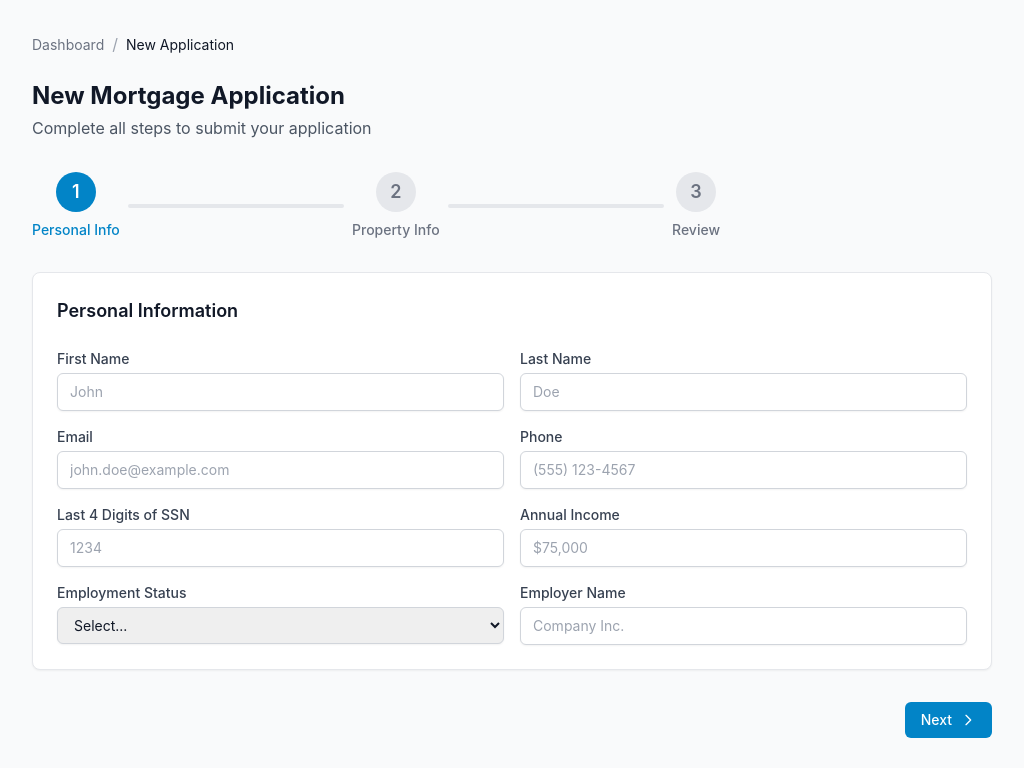
Test: NewApplicationPage › should only allow 4 digits for SSN
In the field labelled "Last 4 Digits of SSN": (280, 548) left=57, top=529, right=504, bottom=567, type "12345abc"
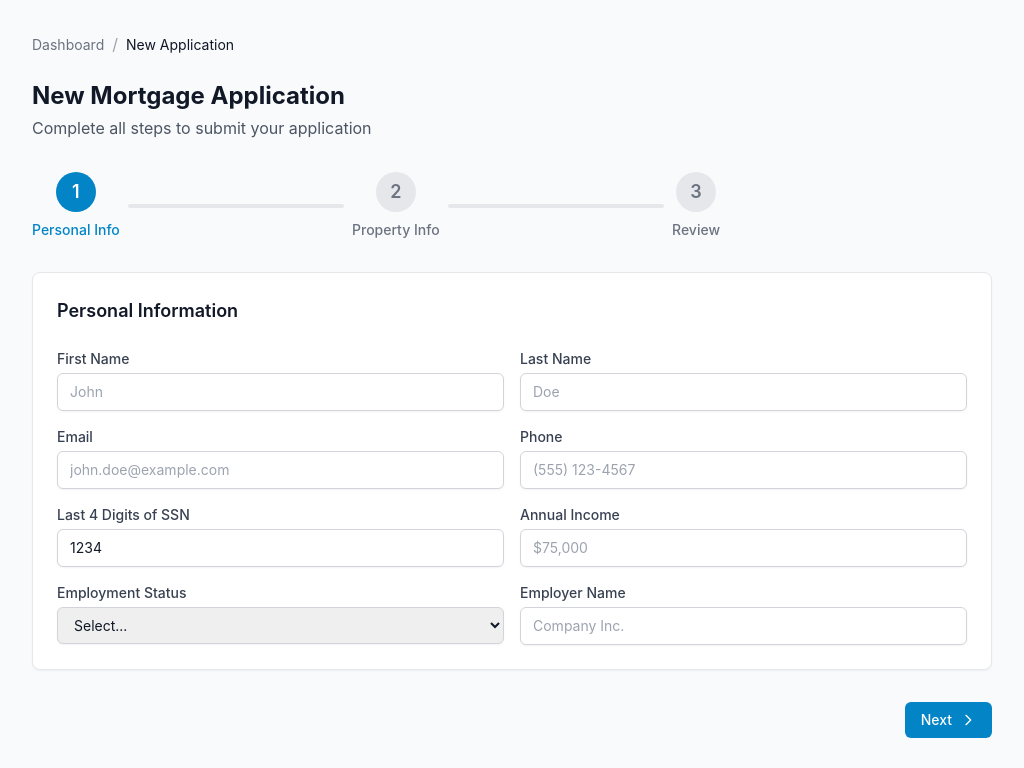
Expected: the field labelled "Last 4 Digits of SSN" holds "1234", left=57, top=529, right=504, bottom=567
